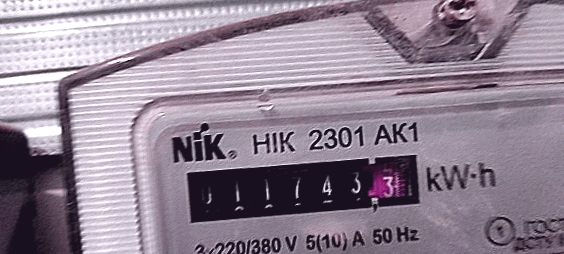0: (198, 175, 214, 204)
1: (259, 170, 273, 199), (230, 173, 242, 200)
3: (347, 164, 364, 192), (379, 170, 395, 197)
4: (318, 167, 334, 195)
7: (287, 167, 305, 196)
screen: (174, 136, 433, 233)
